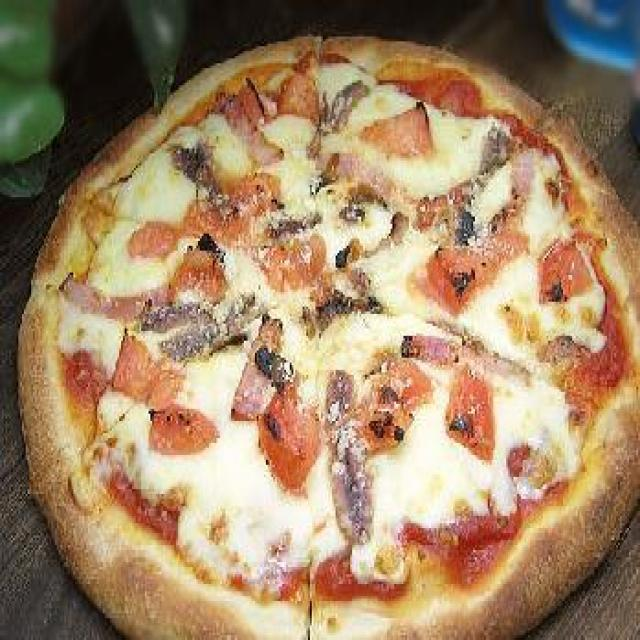汉堡快餐: (13, 19, 640, 640)
